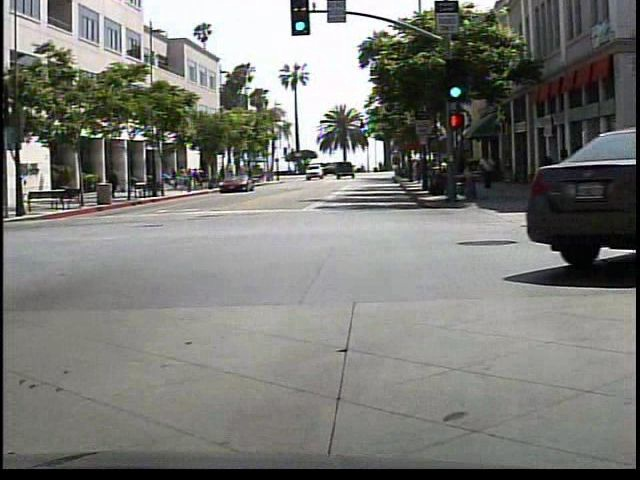person: (475, 150, 498, 194), (106, 162, 124, 201)
